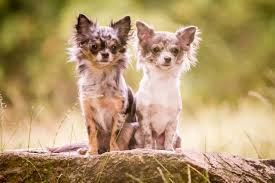Bulldog: (57, 12, 138, 156), (136, 18, 203, 155)
